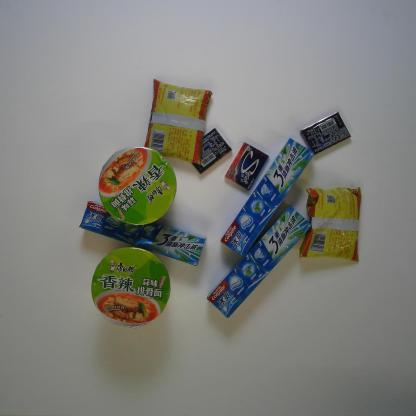Gum: (300, 110, 352, 156), (224, 142, 269, 191), (191, 127, 232, 174)
Instant Noodles: (90, 246, 172, 330), (97, 145, 177, 226)
Personal Hygiene: (206, 205, 312, 319), (219, 138, 315, 258), (77, 199, 206, 268)
Seasoner: (143, 78, 213, 166), (298, 186, 362, 262)
